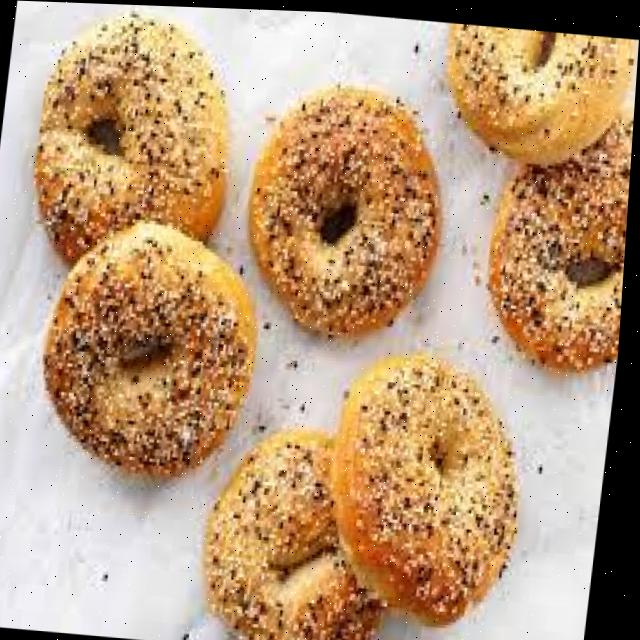Bagel: (49, 221, 260, 478), (336, 354, 526, 621), (37, 18, 228, 262), (254, 87, 440, 334), (212, 428, 391, 640), (493, 114, 635, 369), (448, 20, 634, 160)
